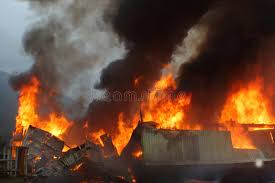fire: (17, 60, 272, 162)
